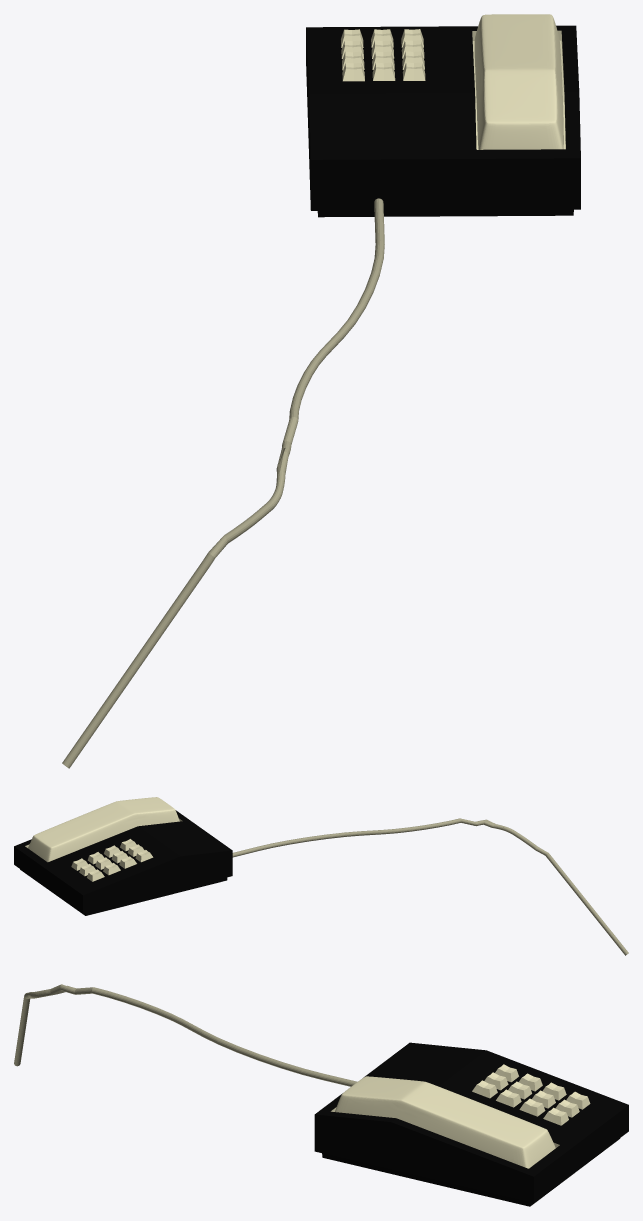
Rendered from telephone.fbx.
3 views of the same model, one above another, from view 1: azimuth 30°, elevation 25°; view 2: azimuth 150°, elevation 25°; view 3: azimuth 270°, elevation 25° (orthographic). The views are drawn at different scales.
Visible parts, largest first — view 1: Cube.035, Cube.036; view 2: Cube.035, Cube.036; view 3: Cube.035, Cube.036.
Boxes of the visible parts, x1=… form: Cube.035: x1=62, y1=25, x2=580, y2=768; Cube.036: x1=474, y1=14, x2=563, y2=149; Cube.035: x1=14, y1=810, x2=628, y2=955; Cube.036: x1=28, y1=797, x2=179, y2=862; Cube.035: x1=14, y1=984, x2=628, y2=1206; Cube.036: x1=335, y1=1076, x2=555, y2=1168.
Size of the model in its own units: 315 by 111 by 267.
